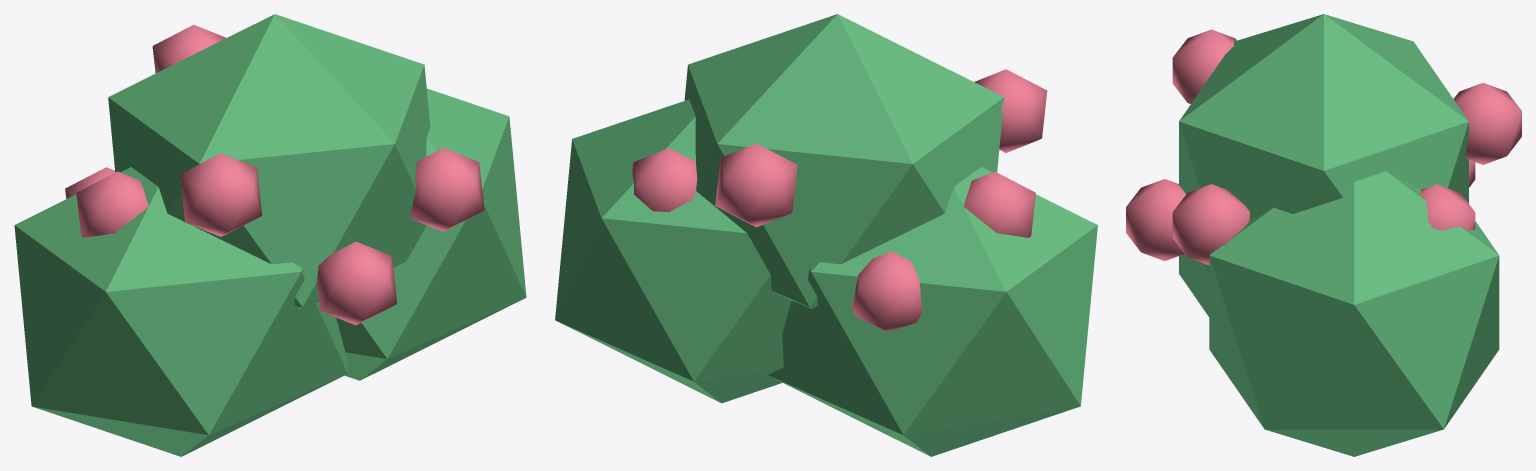
The model's file is berry-bush.glb.
3 renders of one model, left to right at view 1: azimuth 30°, elevation 25°; view 2: azimuth 150°, elevation 25°; view 3: azimuth 270°, elevation 25°, orthographic.
Visible parts, largest first — view 1: Bush leaves, Bush leaves.002, Bush leaves.001, Berry.005, Berry.006, Berry.007, Berry.004, Berry.002, Berry.003; view 2: Bush leaves, Bush leaves.002, Bush leaves.001, Berry.002, Berry.003, Berry.004, Berry.005, Berry.001; view 3: Bush leaves.001, Bush leaves.002, Berry.007, Berry.002, Berry.006, Berry.005, Berry.001, Bush leaves.
Part boxes in pixels (box(x1,y1,x2,y2)): Bush leaves: box(14, 167, 347, 456); Bush leaves.002: box(108, 14, 430, 308); Bush leaves.001: box(336, 88, 526, 380); Berry.005: box(180, 153, 262, 236); Berry.006: box(317, 241, 397, 325); Berry.007: box(410, 148, 484, 231); Berry.004: box(76, 171, 148, 237); Berry.002: box(152, 24, 226, 72); Berry.003: box(65, 167, 115, 198); Bush leaves: box(767, 167, 1097, 456); Bush leaves.002: box(684, 14, 1004, 308); Bush leaves.001: box(555, 99, 790, 403); Berry.002: box(715, 143, 797, 227); Berry.003: box(852, 251, 922, 331); Berry.004: box(964, 171, 1035, 237); Berry.005: box(974, 69, 1047, 152); Berry.001: box(632, 148, 697, 212); Bush leaves.001: box(1209, 171, 1499, 456); Bush leaves.002: box(1179, 14, 1468, 219); Berry.007: box(1172, 184, 1249, 265); Berry.002: box(1453, 82, 1521, 164); Berry.006: box(1126, 179, 1185, 260); Berry.005: box(1172, 29, 1236, 103); Berry.001: box(1420, 184, 1475, 230); Bush leaves: box(1179, 254, 1209, 316).
Bounding box in the file's own units: 1.47 × 1.2 × 1.04.
